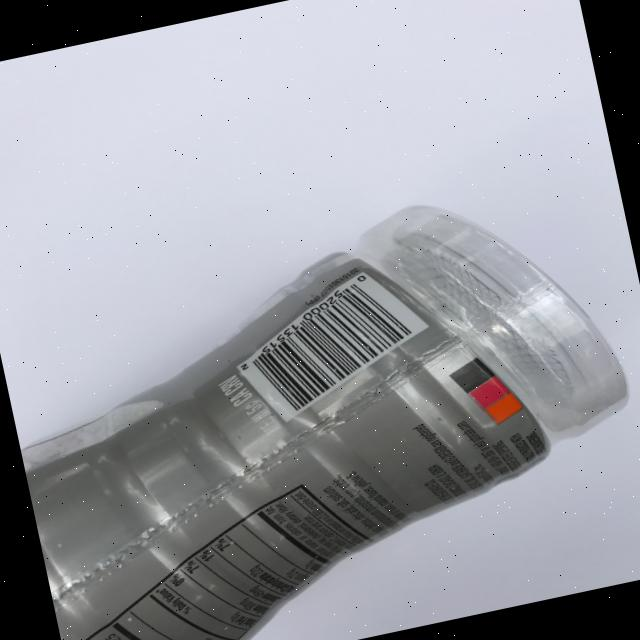plastic: (0, 166, 640, 640)
